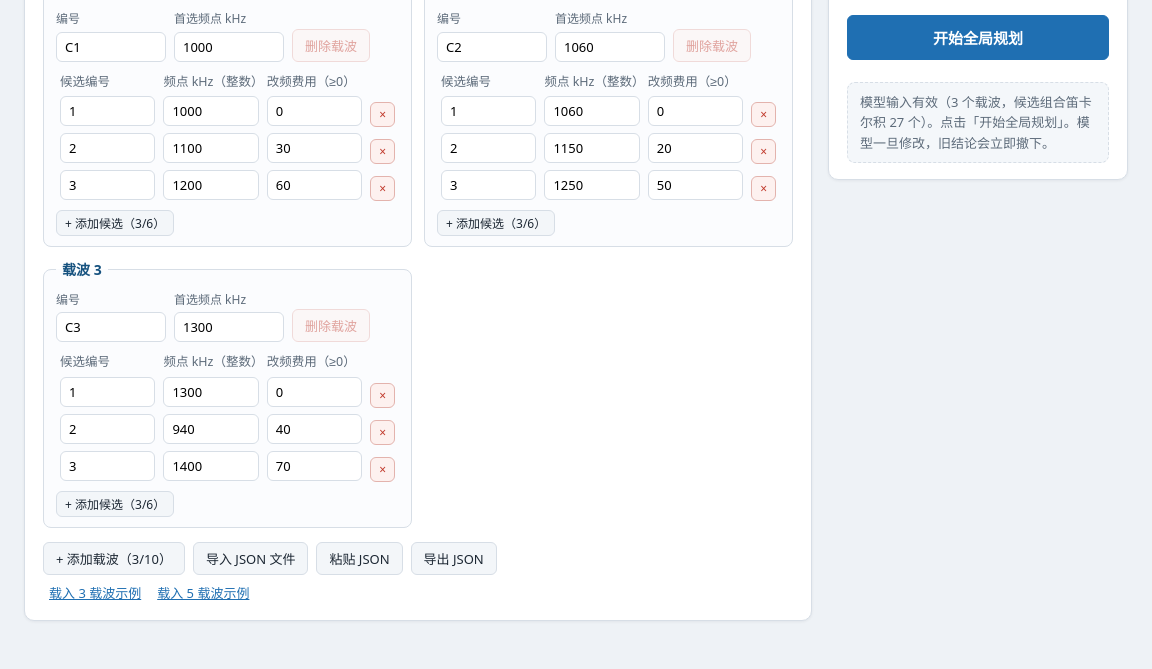
Test case: 工作台交互流程 › 结构合法但无可行组合时明确反馈无解并列出碰撞三元组
This screenshot has width=1152, height=669.
(page scrolled)
Click the button "粘贴 JSON" at (360, 558), box [316,542,403,575]
(page scrolled)
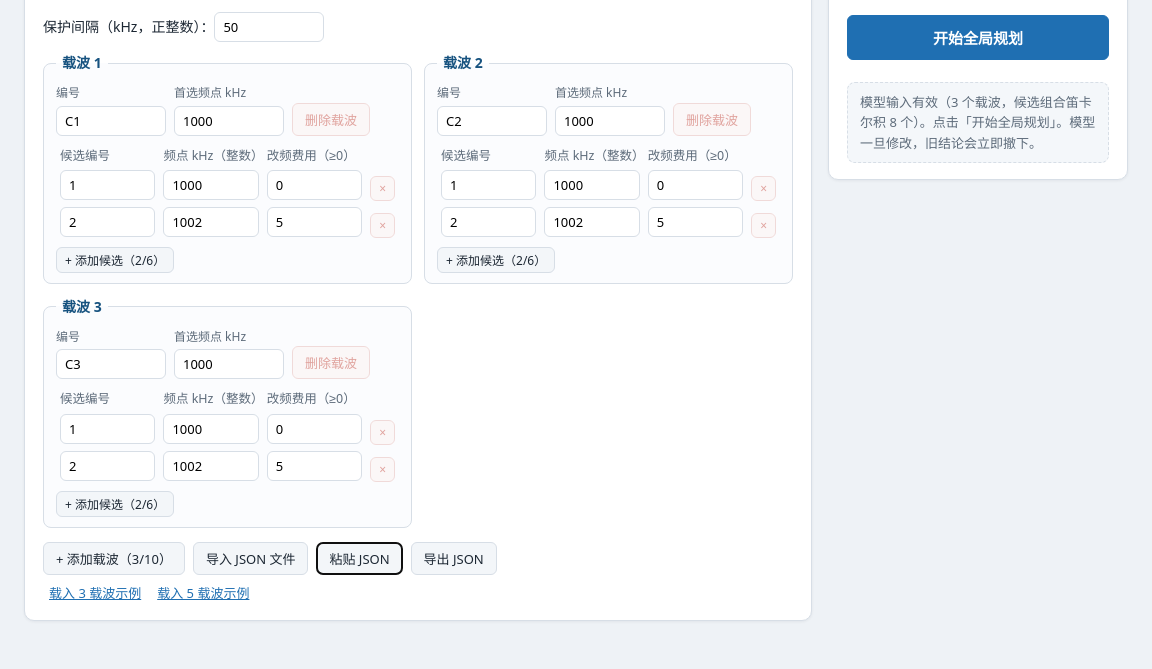
Click the button "开始全局规划" at (978, 37), box [847,15,1109,60]
(page scrolled)
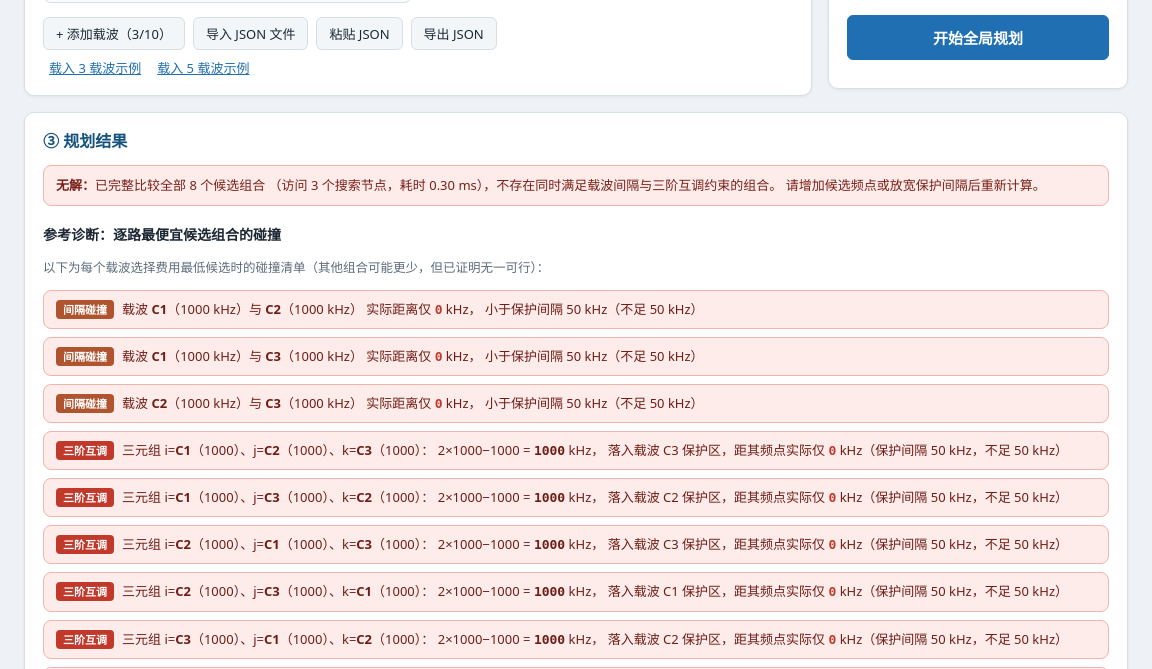
Check: the text "无解：" is shown, box [56,176,95,194]
Check: the text "不存在同时满足" is shown, box [455,176,1046,194]
Check: the 1st text "间隔碰撞" is shown, box [56,300,114,319]
